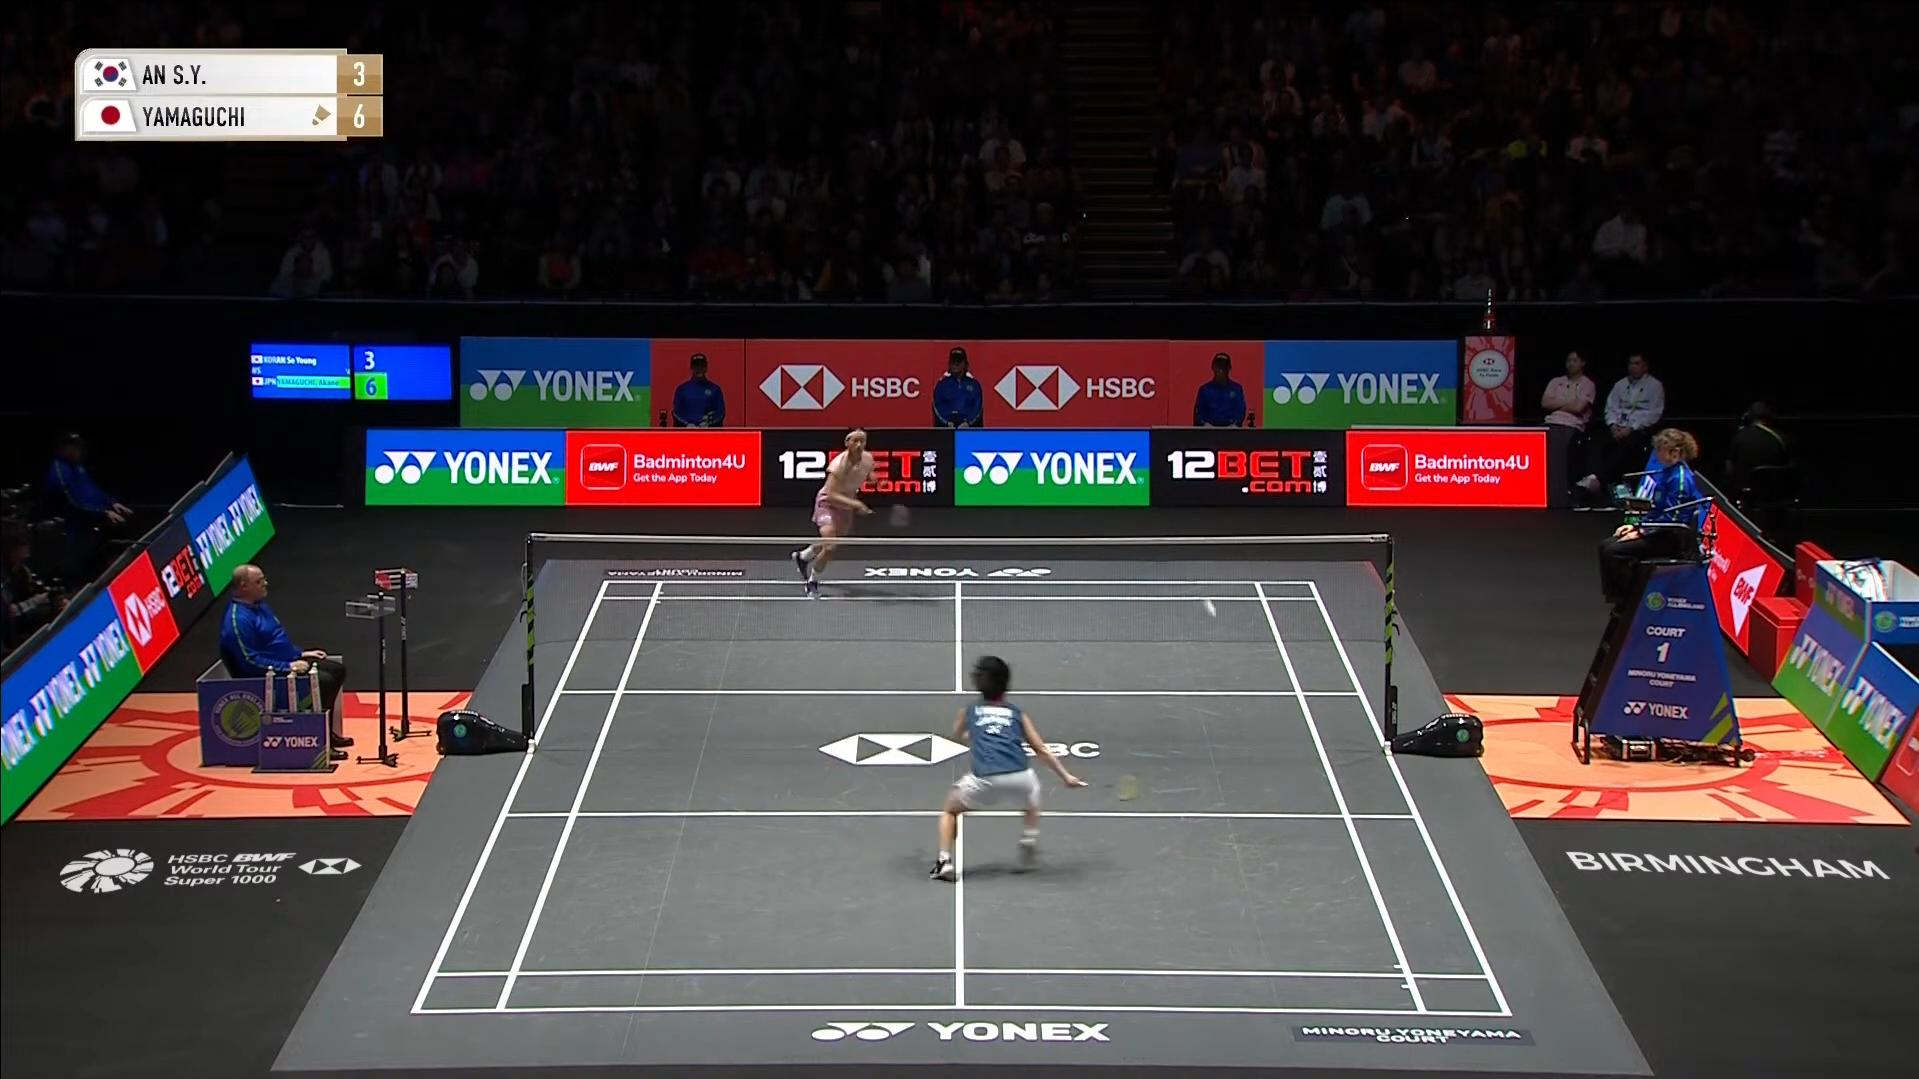shuttle: (1190, 586, 1231, 631)
